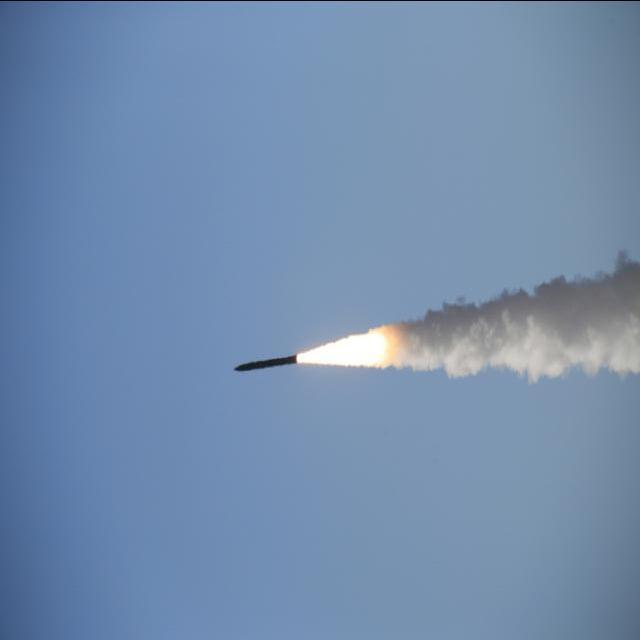missile: (231, 350, 300, 373)
